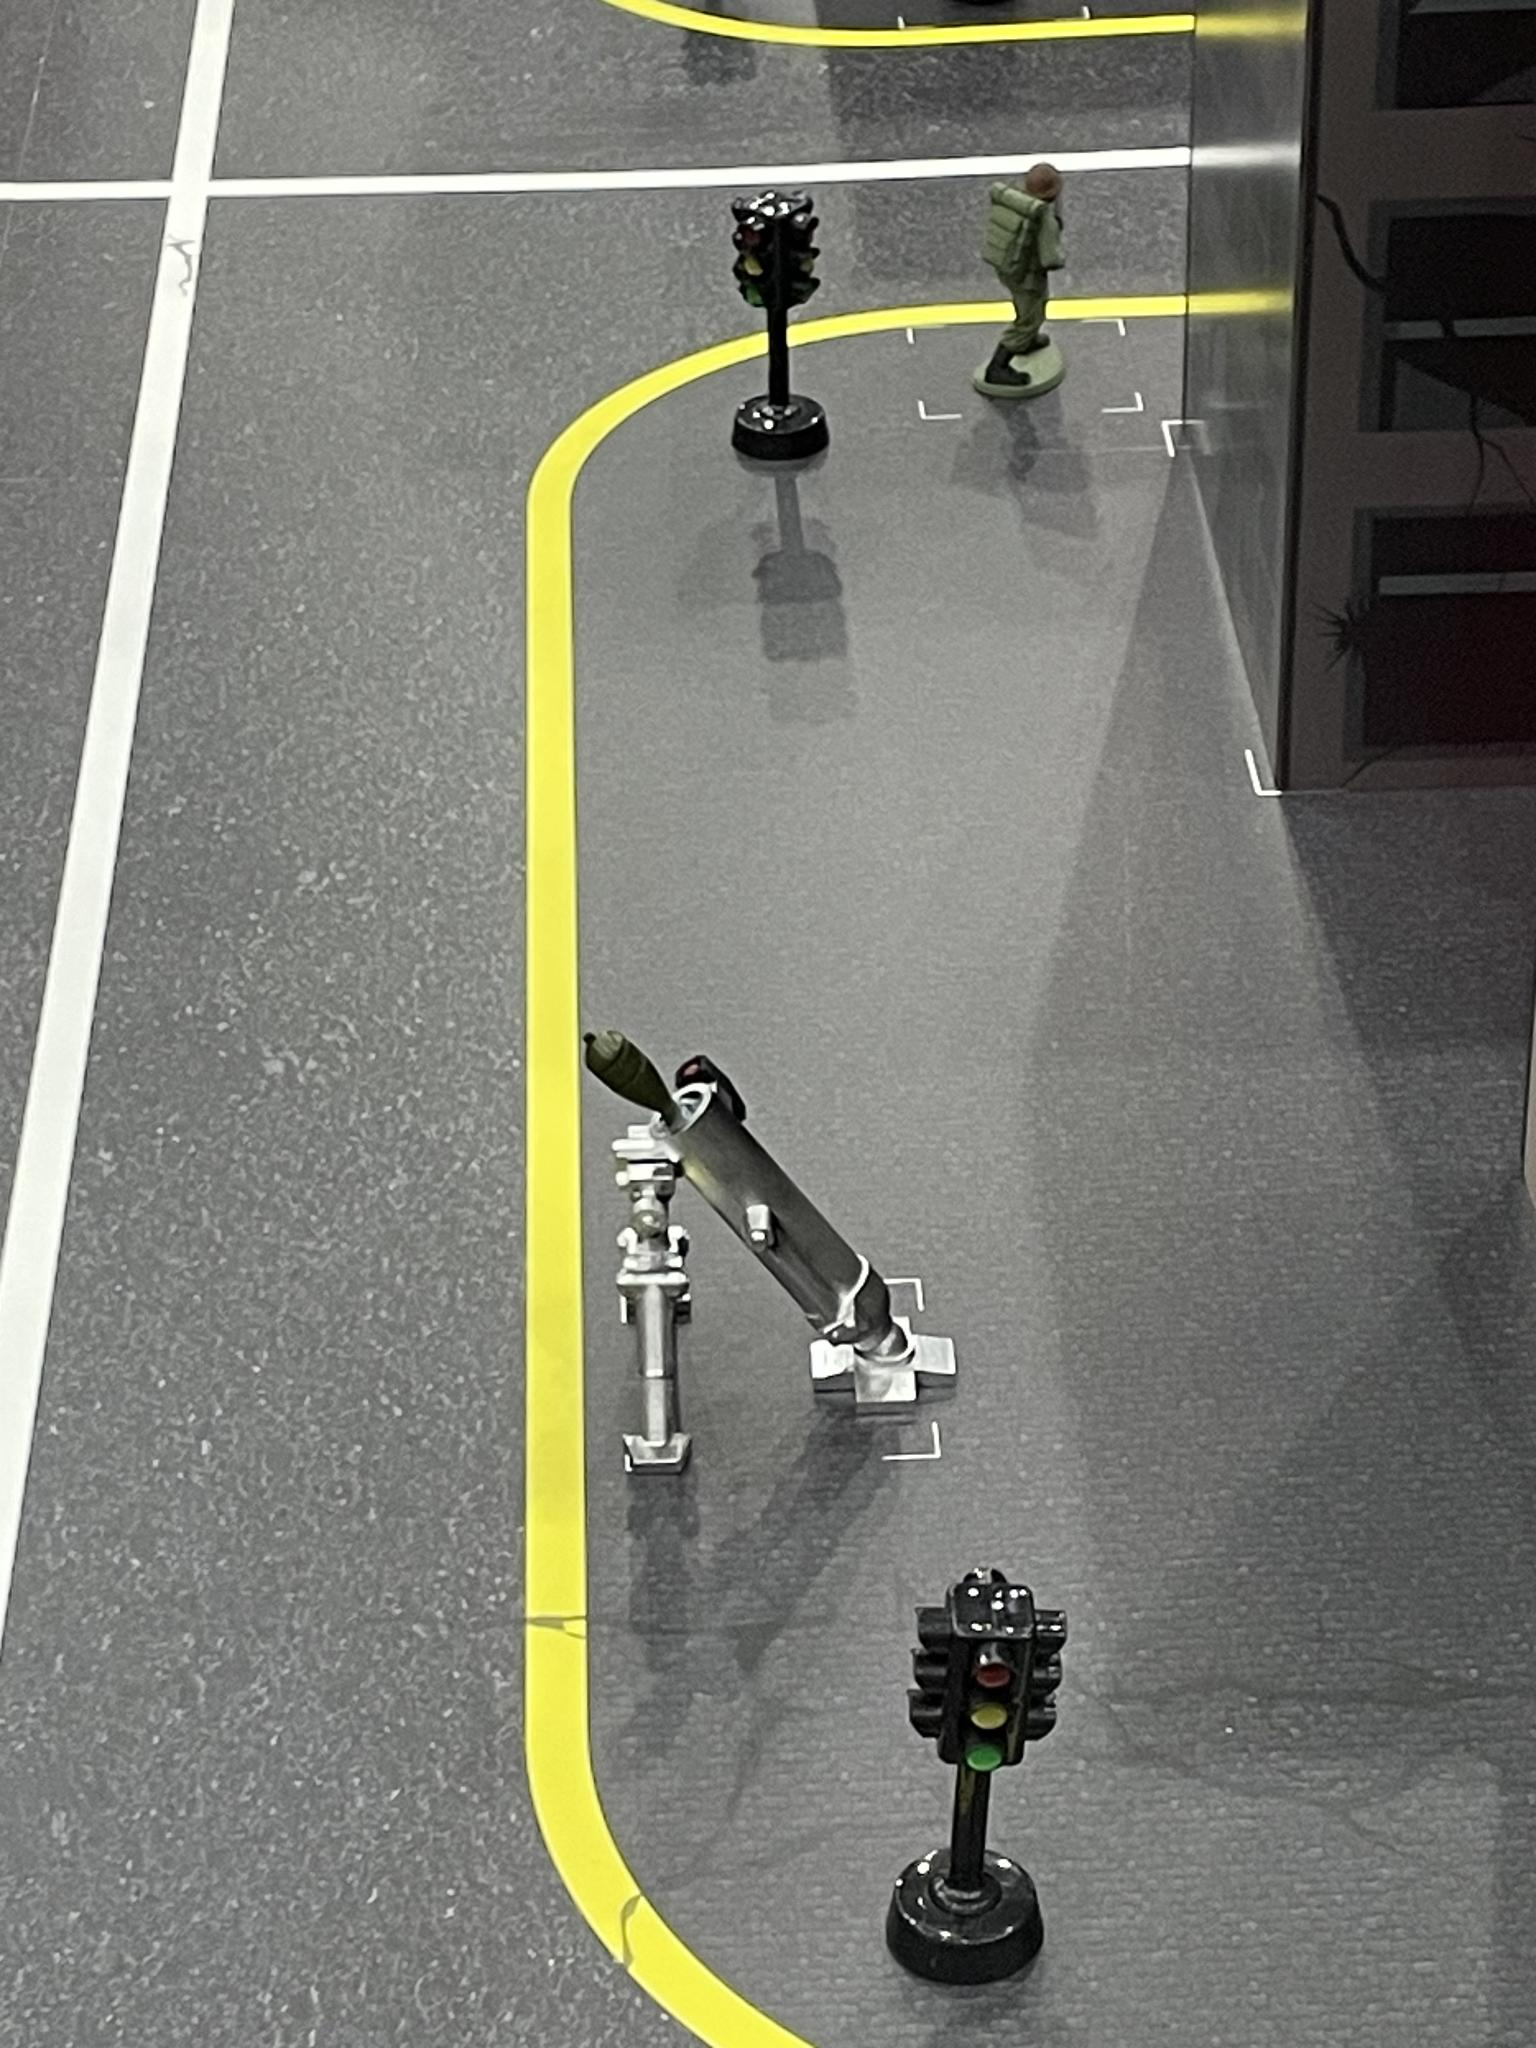Enemy: (955, 150, 1087, 429)
Mortar: (579, 1011, 968, 1488)
